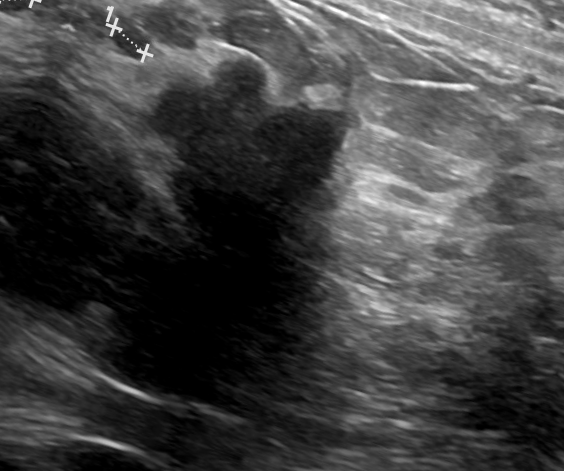Malignant: (152, 56, 344, 213)
